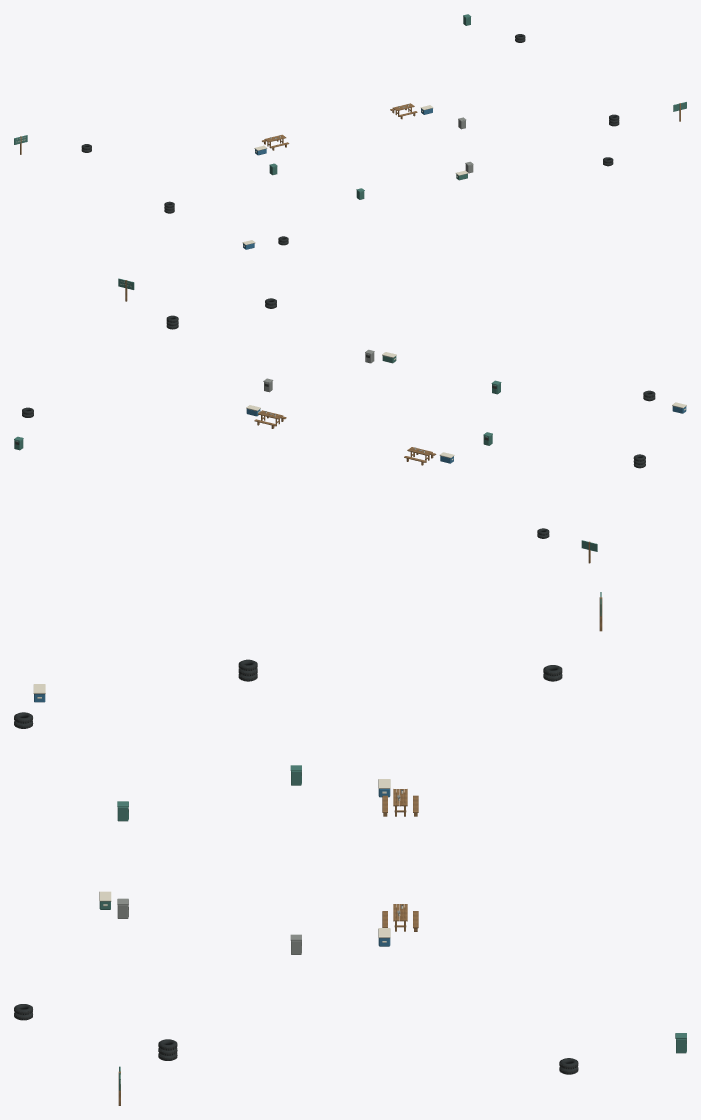
File: smoko_props.glb
The picture shows the model from 3 angles, top to bottom: view 1: azimuth 30°, elevation 25°; view 2: azimuth 150°, elevation 25°; view 3: azimuth 270°, elevation 25°; orthographic projection. The views are drawn at different scales.
Parts seen in each view (by area): view 1: Smoko Small Props Runtime.002; view 2: Smoko Small Props Runtime.002; view 3: Smoko Small Props Runtime.002.
Part boxes in pixels (x1,y1,x2,y2): Smoko Small Props Runtime.002: (14, 14, 686, 249); Smoko Small Props Runtime.002: (14, 278, 686, 563); Smoko Small Props Runtime.002: (14, 592, 686, 1105).
Bounding box in the file's own units: 71.8 × 2.3 × 41.96.
Materials: 10 (3 with a texture image).
